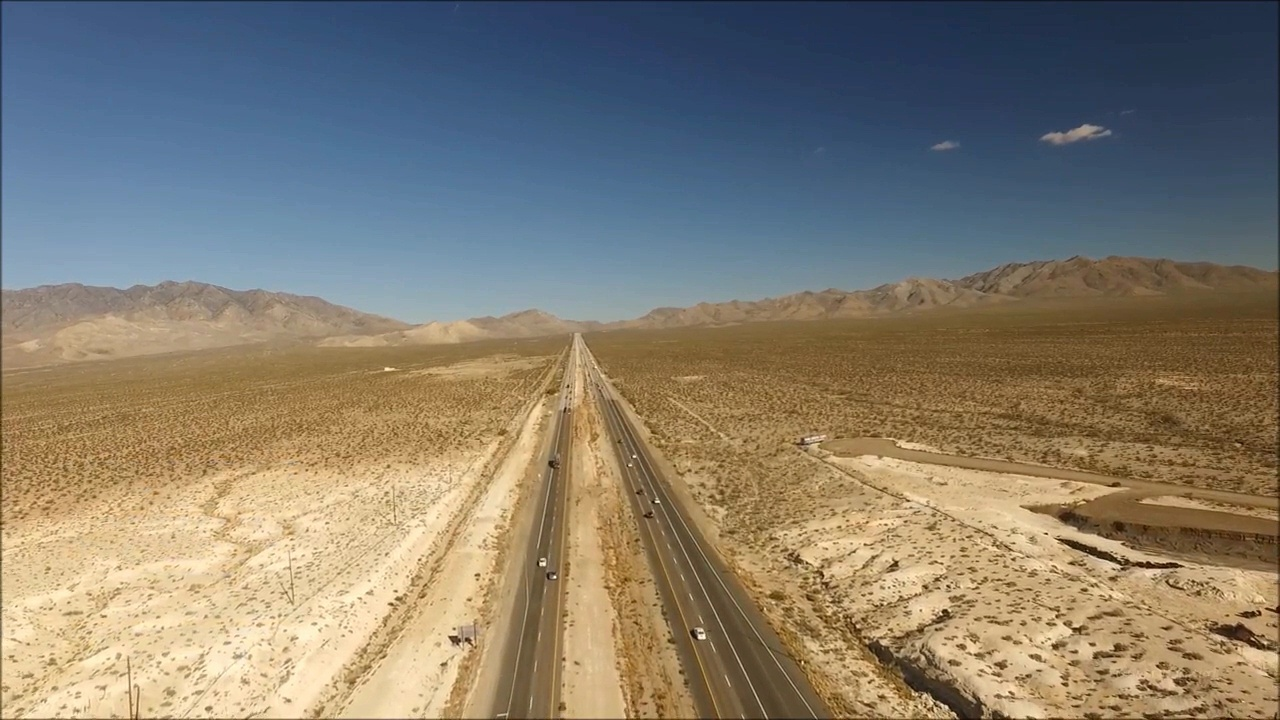araba: (690, 626, 706, 641), (548, 565, 558, 580), (537, 555, 546, 568)
